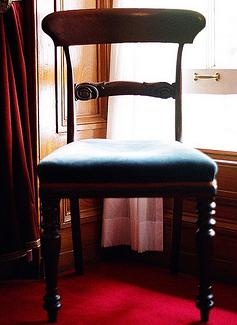obstacle: (40, 8, 216, 321)
